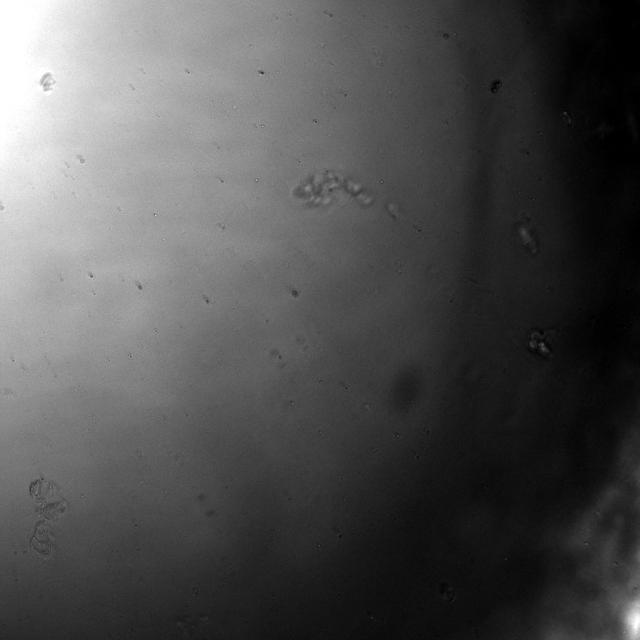organoid: (291, 170, 374, 207), (527, 329, 550, 357)
